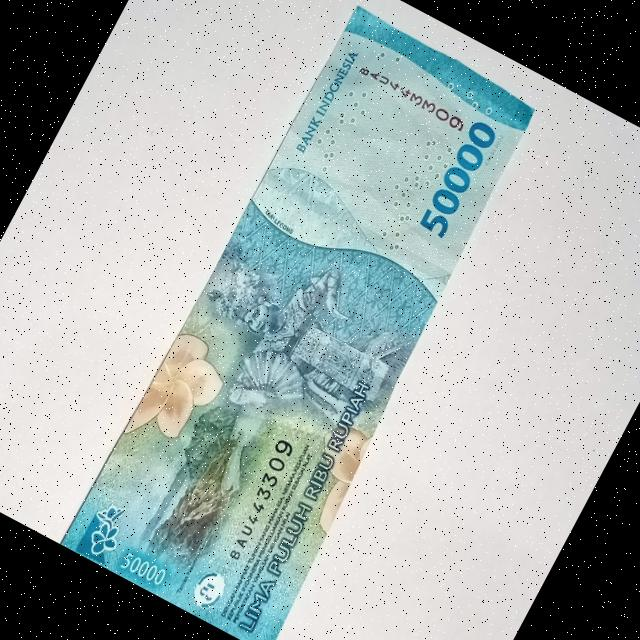50K: (54, 0, 568, 640)
